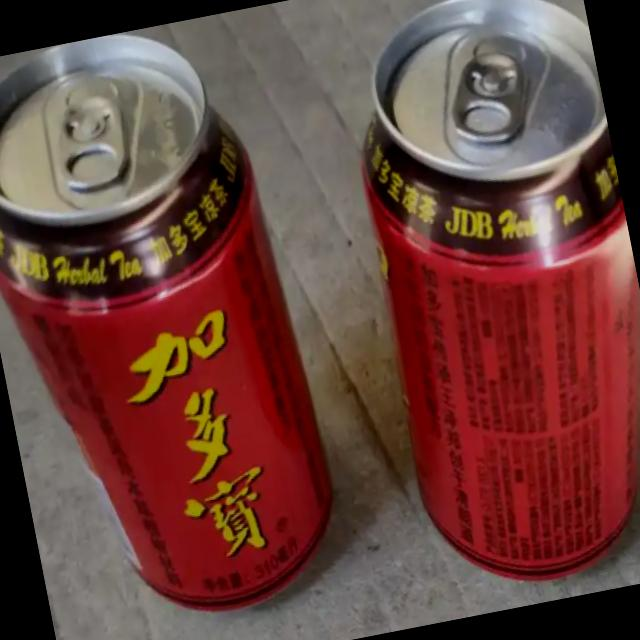can: (0, 9, 354, 640), (321, 0, 640, 606)
